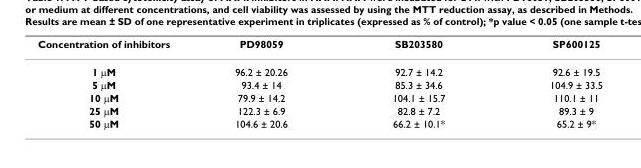table: (36, 37, 601, 129)
table column: (36, 37, 201, 129), (339, 37, 496, 129), (201, 37, 339, 129), (496, 37, 601, 129)
table column header: (36, 37, 601, 57)
table row: (36, 37, 601, 57), (36, 57, 601, 77), (36, 77, 601, 90), (36, 90, 601, 103), (36, 103, 601, 116), (36, 116, 601, 129)
